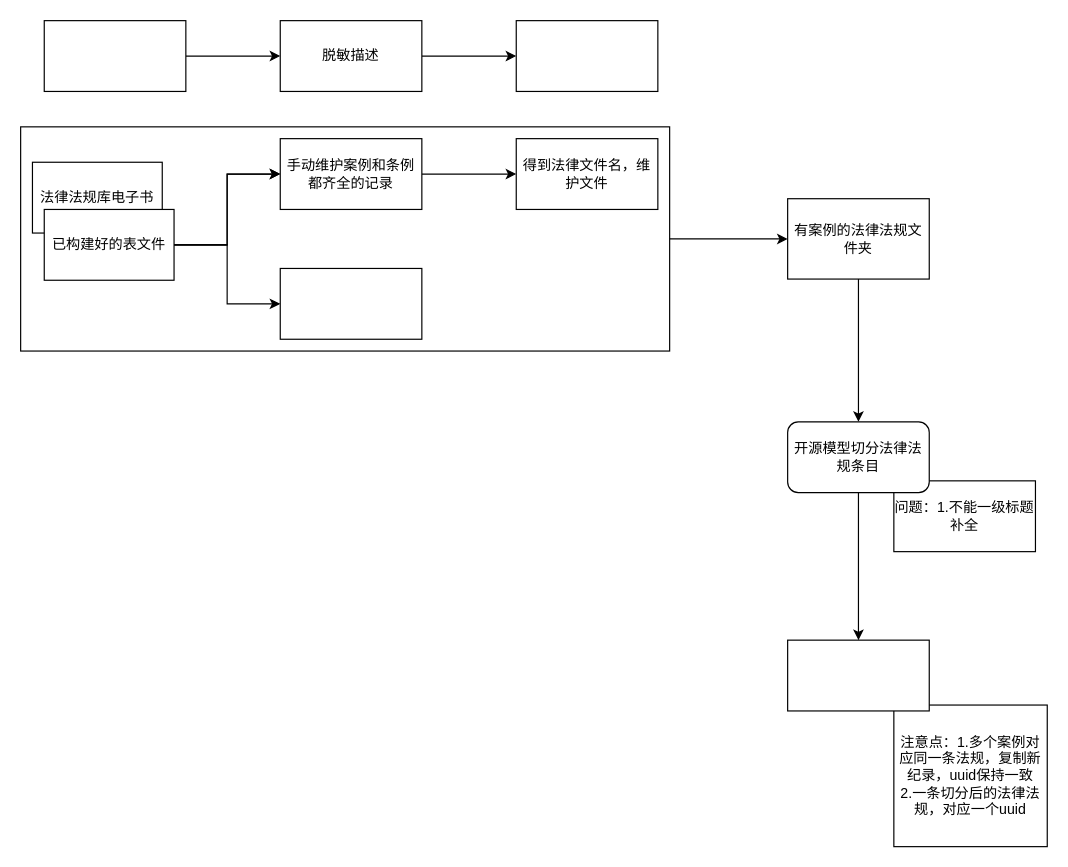
Some shapes in this 1068 by 867 pixel diagram are drawn without their labels. Here are the shapes that lost their labels. From the top down, the box of each, then its label:
(43, 19, 186, 91): 实际案例
(515, 19, 658, 91): 对应法律条例
(279, 267, 422, 339): 有案例没有法律文件的，需要爬取法规库
(786, 639, 929, 711): 根据切分后的law_item，补全对应法律条例的案例
